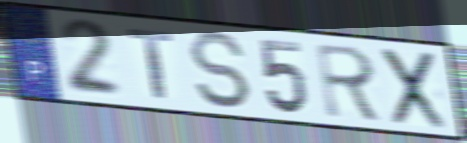2: (56, 16, 125, 97)
5: (257, 37, 308, 115)
R: (313, 40, 386, 125)
S: (186, 29, 254, 112)
T: (124, 27, 176, 102)
X: (380, 46, 448, 131)
